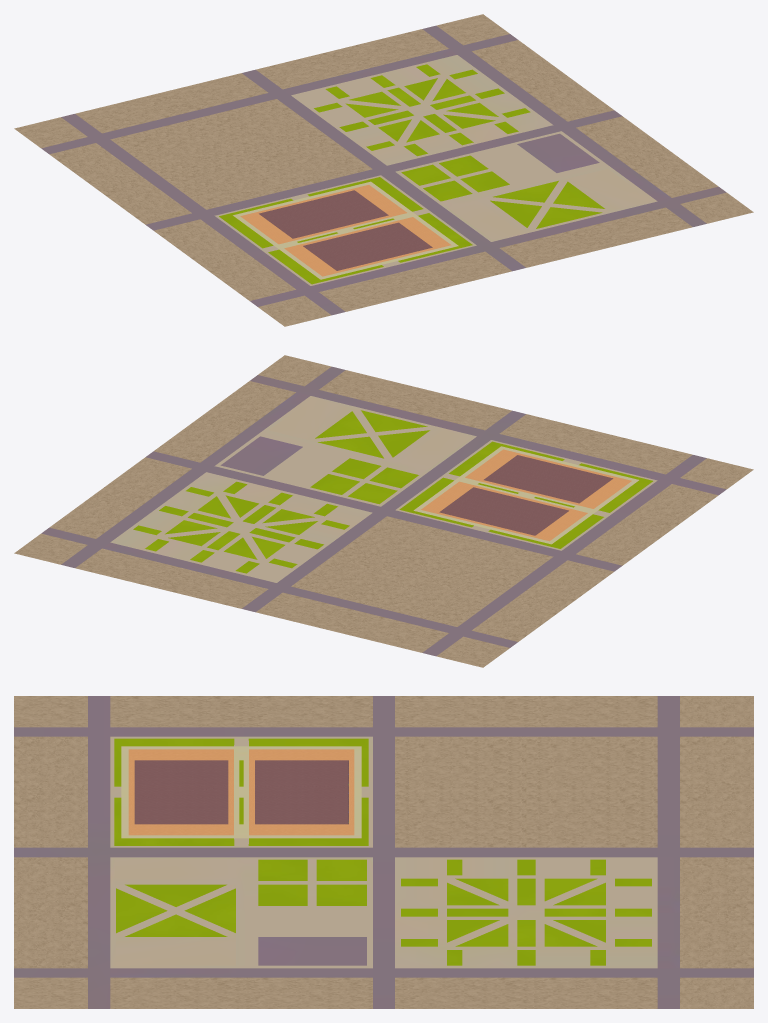
File: Ground.fbx
3 renders of one model, top to bottom at view 1: azimuth 30°, elevation 25°; view 2: azimuth 150°, elevation 25°; view 3: azimuth 270°, elevation 25°, orthographic. The views are drawn at different scales.
Parts seen in each view (by area): view 1: Ground; view 2: Ground; view 3: Ground.
Boxes of the visible parts, left/top/right/bottom form: Ground: left=14, top=14, right=753, bottom=326; Ground: left=14, top=355, right=753, bottom=667; Ground: left=14, top=696, right=753, bottom=1008.
Size of what is drawn, in the model's own units: 2000 by 0.000326 by 2000.
